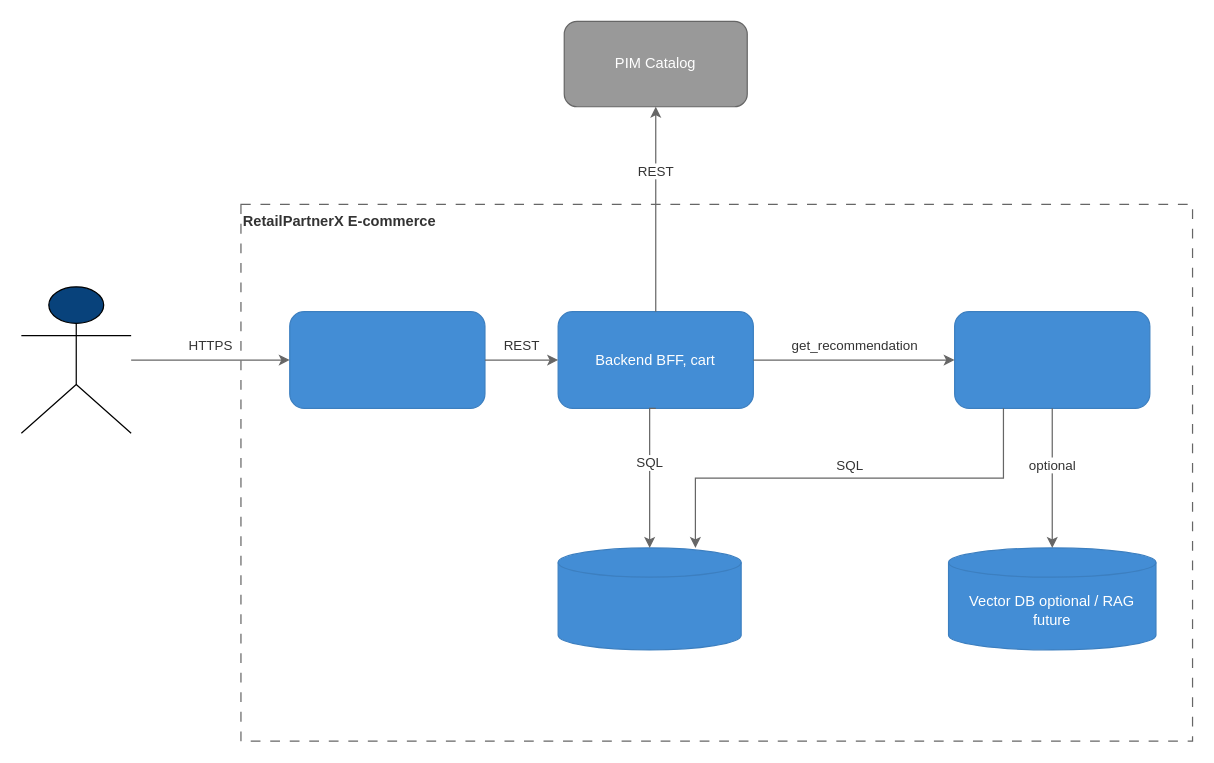
Some shapes in this 1214 by 763 pixel diagram are drawn without their labels. The centre of each missing label's shape, as x and y in pixels:
AI Service Recommendations: [1051,359]
Frontend Web, iOS, Android: [387,359]
SQL DB PostgreSQL: [649,598]
